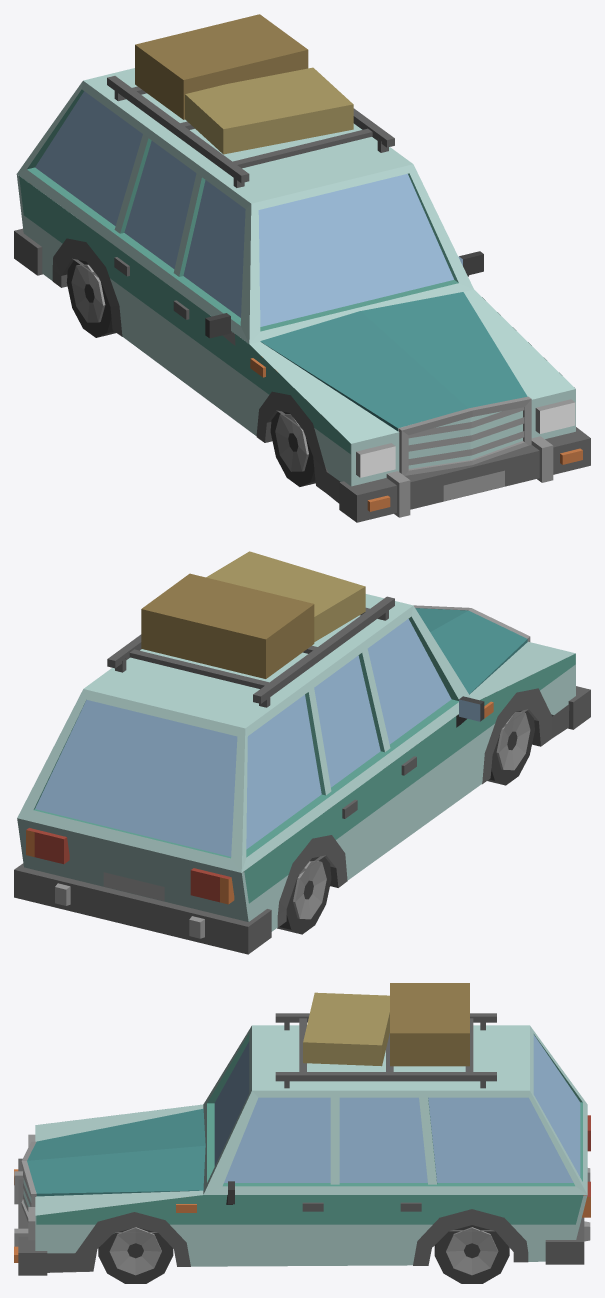
File: transport_old_010.glb
3 renders of one model, top to bottom at view 1: azimuth 30°, elevation 25°; view 2: azimuth 150°, elevation 25°; view 3: azimuth 270°, elevation 25°, orthographic. The views are drawn at different scales.
Parts seen in each view (by area): view 1: transport_old_010; view 2: transport_old_010; view 3: transport_old_010.
Boxes of the visible parts, left/top/right/bottom form: transport_old_010: left=14, top=14, right=590, bottom=522; transport_old_010: left=14, top=551, right=590, bottom=954; transport_old_010: left=14, top=983, right=590, bottom=1283.
Bounding box in the file's own units: 1.48 × 1.43 × 3.26.
1 material, 1 textured.
